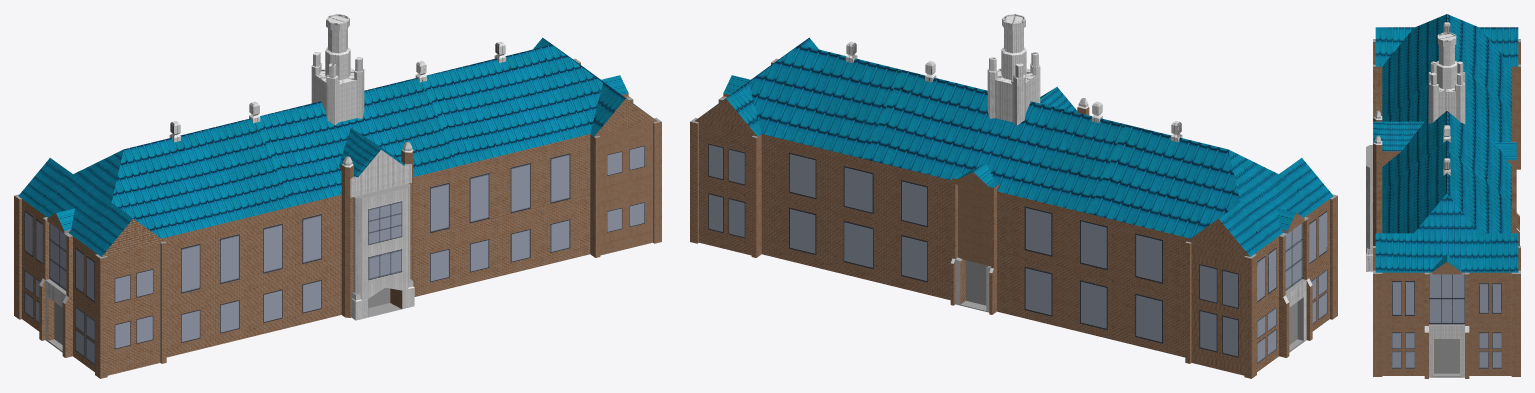
Rendered from Dilon.fbx.
3 renders of one model, left to right at view 1: azimuth 30°, elevation 25°; view 2: azimuth 150°, elevation 25°; view 3: azimuth 270°, elevation 25°, orthographic. The views are drawn at different scales.
Parts seen in each view (by area): view 1: main_building, pPrism1; view 2: main_building, pPrism1; view 3: main_building, pPrism1.
Part boxes in pixels (x1,y1,x2,y2): main_building: (14, 37, 661, 378); pPrism1: (311, 14, 364, 125); main_building: (690, 37, 1337, 378); pPrism1: (987, 14, 1040, 125); main_building: (1366, 14, 1520, 378); pPrism1: (1428, 32, 1465, 123).
Size of the model in its own units: 20.87 by 9.07 by 5.72.
